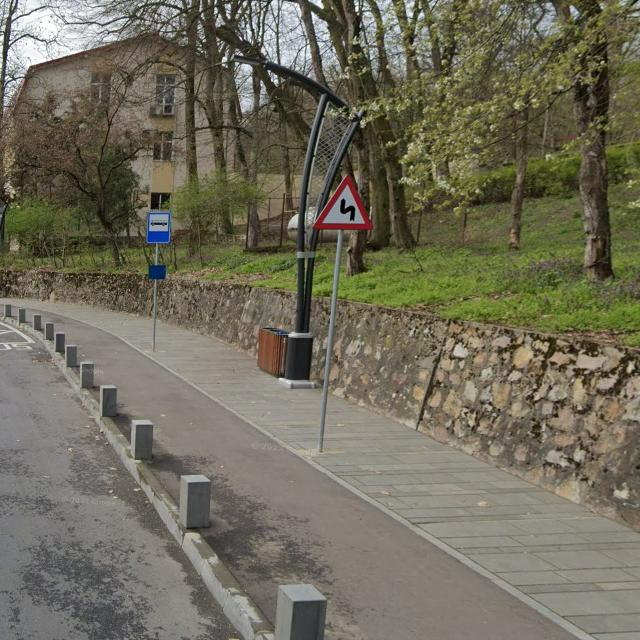info_bus_station: (146, 211, 170, 243)
